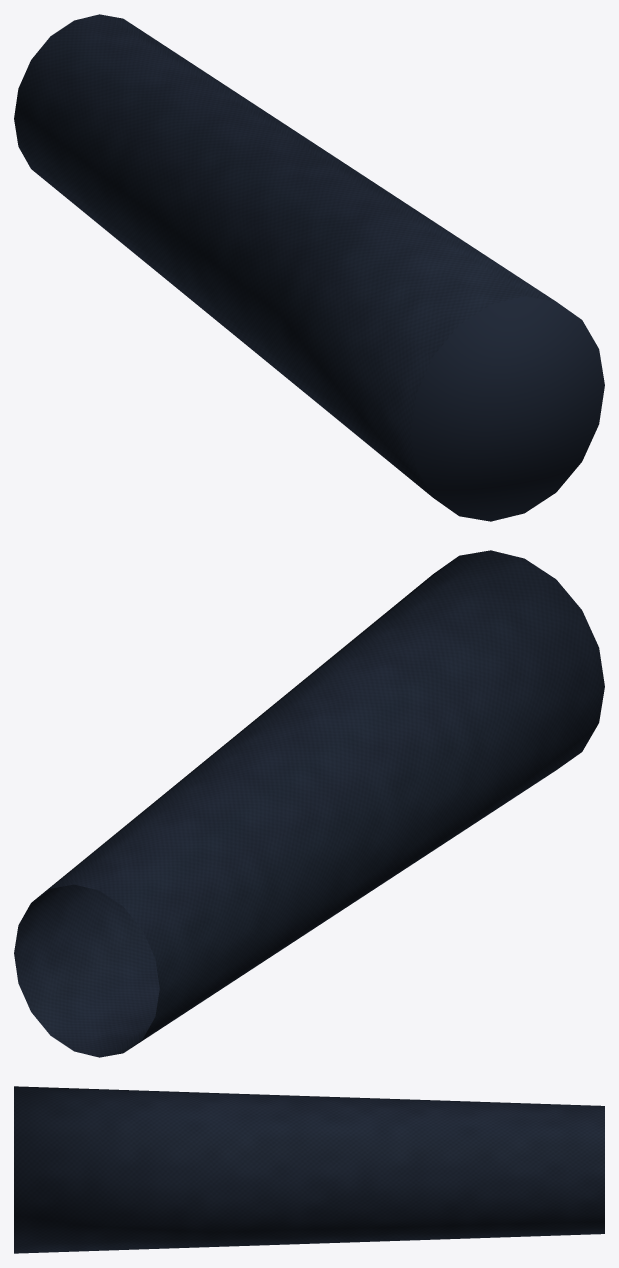
Rendered from fp_upper_neon.glb.
3 views of the same model, one above another, from view 1: azimuth 30°, elevation 25°; view 2: azimuth 150°, elevation 25°; view 3: azimuth 270°, elevation 25° (orthographic). The views are drawn at different scales.
Parts seen in each view (by area): view 1: fp_upper; view 2: fp_upper; view 3: fp_upper.
Part boxes in pixels (x1,y1,x2,y2): fp_upper: [14, 14, 604, 521]; fp_upper: [14, 550, 604, 1057]; fp_upper: [14, 1086, 604, 1253].
Size of the model in its own units: 0.096 by 0.1024 by 0.36.
1 material, 1 textured.
